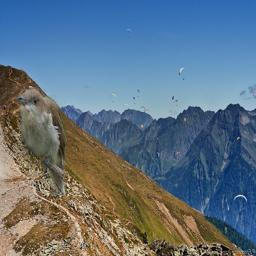Cuckoo: (17, 87, 68, 196)
